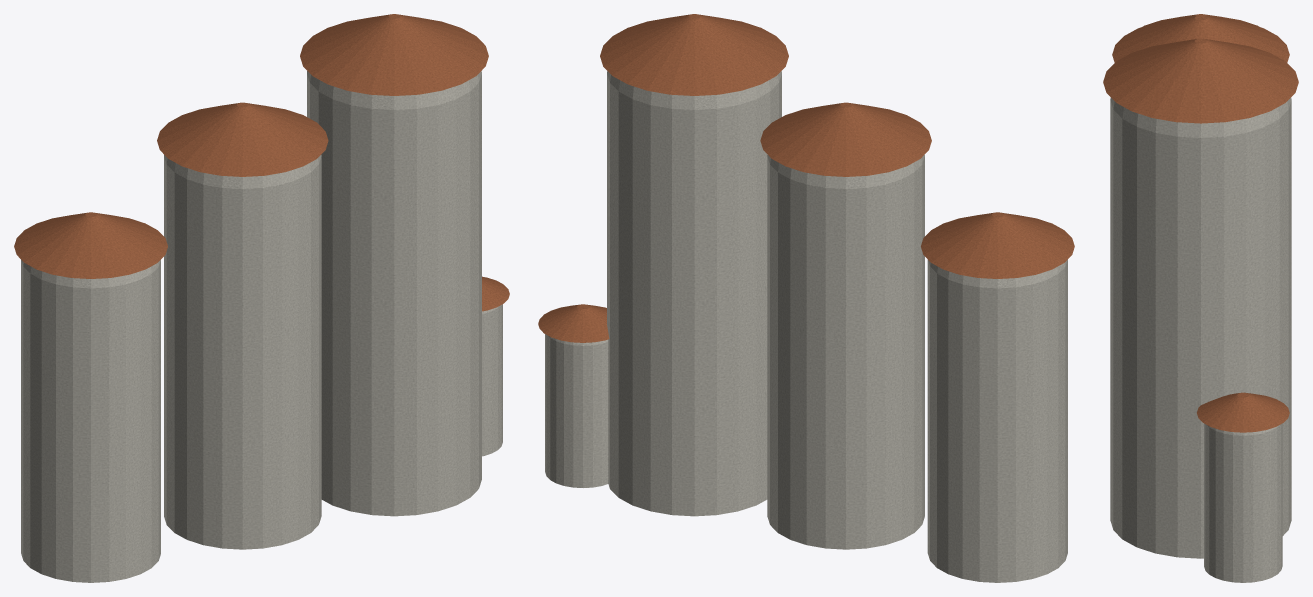
Rendered from GRNTNK2_lod2.glb.
The picture shows the model from 3 angles, left to right: view 1: azimuth 30°, elevation 25°; view 2: azimuth 150°, elevation 25°; view 3: azimuth 270°, elevation 25°; orthographic projection. The views are drawn at different scales.
Visible parts, largest first — view 1: GRNTNK2_LOD2; view 2: GRNTNK2_LOD2; view 3: GRNTNK2_LOD2.
Part boxes in pixels (<box>): GRNTNK2_LOD2: <box>14,14,509,582</box>; GRNTNK2_LOD2: <box>538,14,1074,582</box>; GRNTNK2_LOD2: <box>1103,14,1298,582</box>.
Size of the model in its own units: 9.89 by 8.75 by 3.24.
2 materials, 2 textured.
